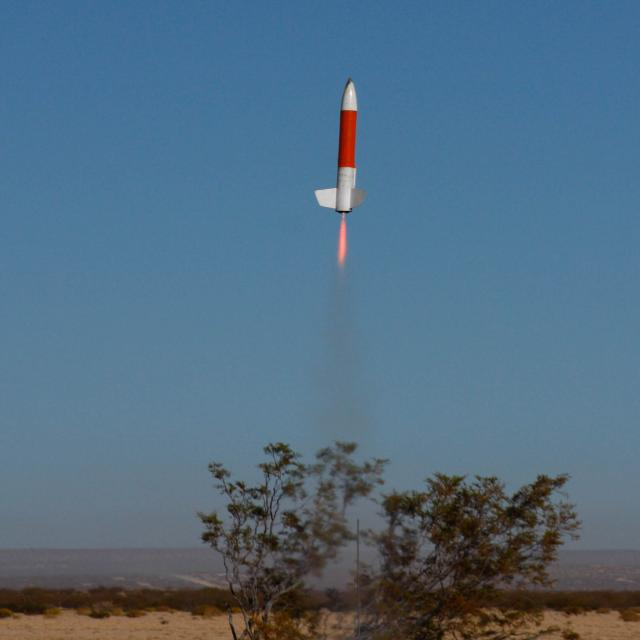Rocket: (314, 76, 368, 214)
